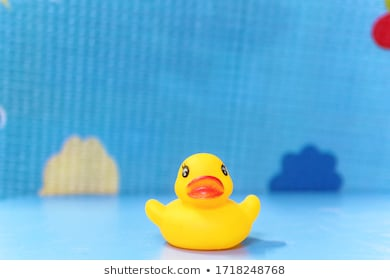duck: (137, 149, 266, 253)
